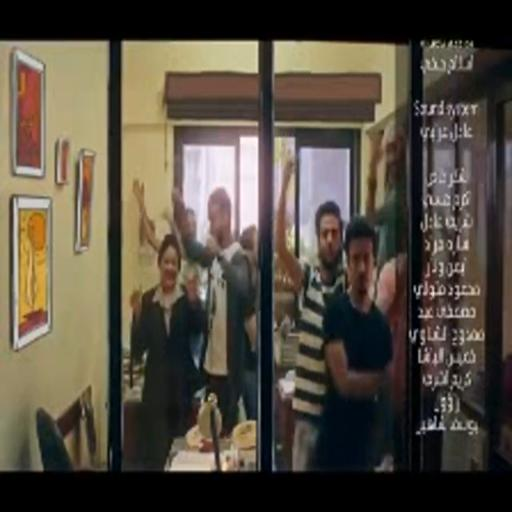nao-violencia: (270, 136, 410, 472), (119, 143, 262, 469)
